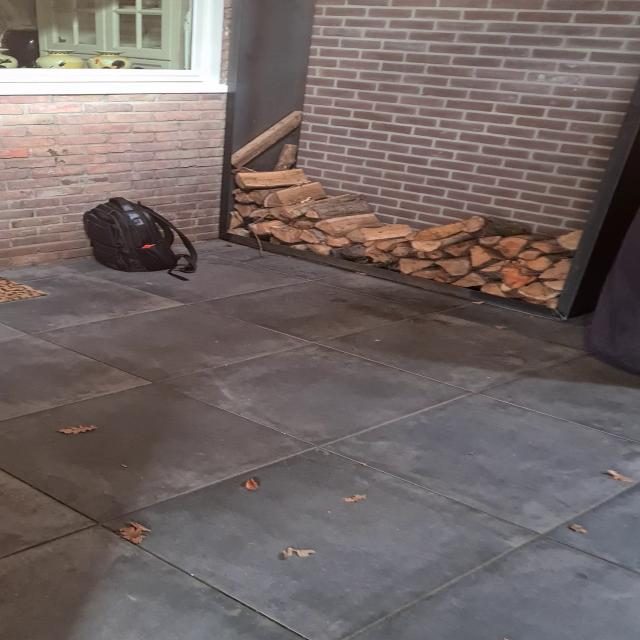backpack: (79, 195, 191, 276)
